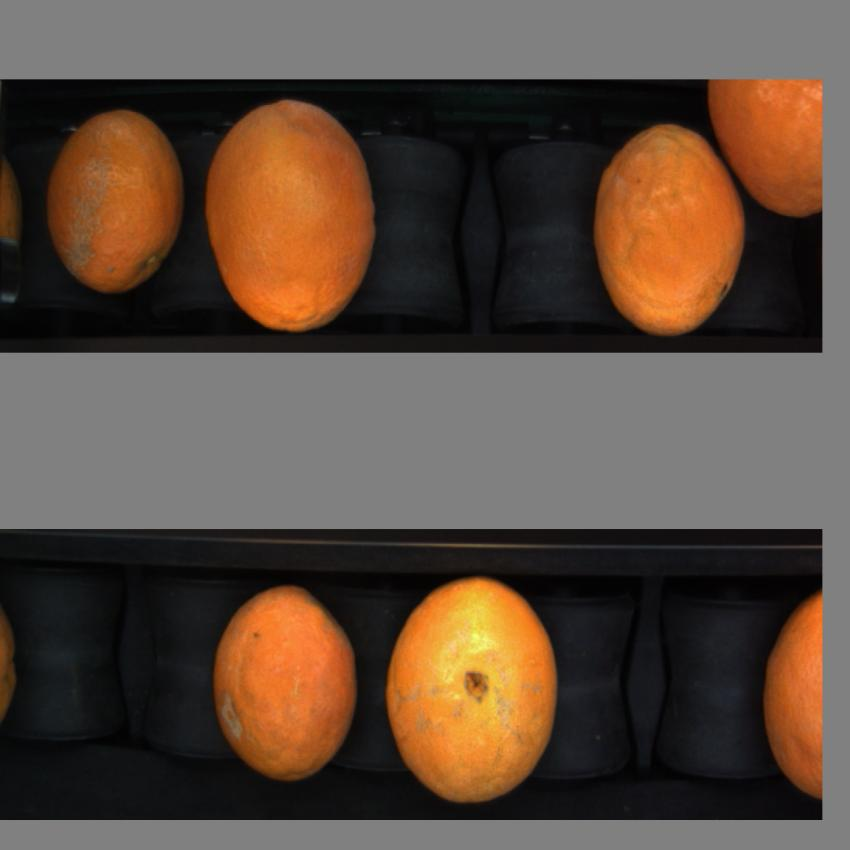Buen estado: (202, 97, 380, 335), (383, 577, 562, 807), (592, 115, 748, 334), (210, 572, 362, 782), (702, 82, 822, 230), (760, 584, 822, 800)
Mal estado: (43, 105, 187, 297)
